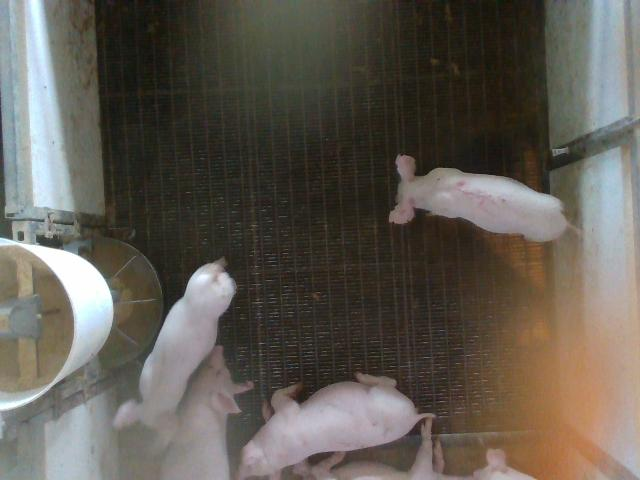pig-5: (389, 156, 569, 241)
